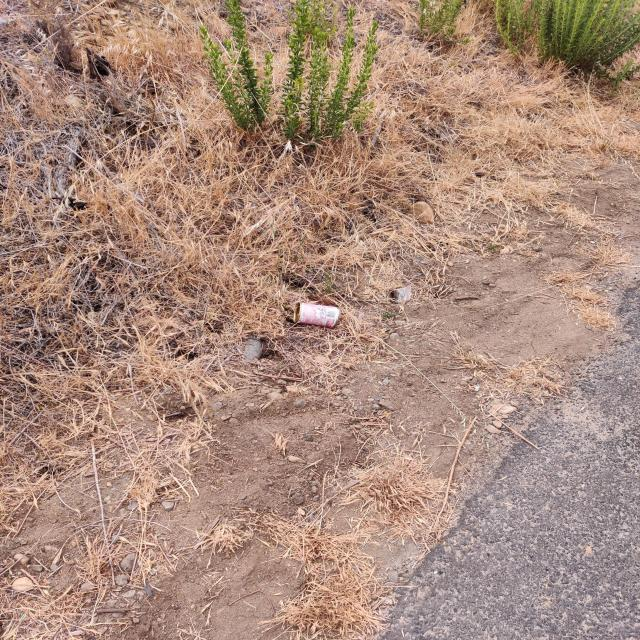litter: (288, 299, 347, 328)
